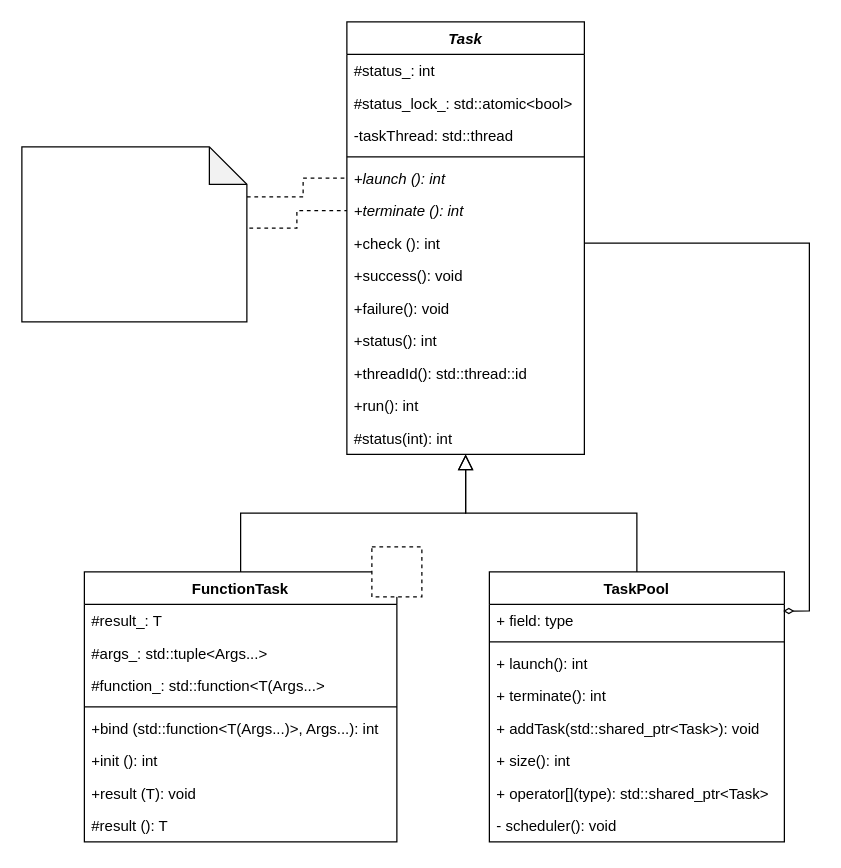
The diagram is 841 pixels wide and 868 high, and some of its shapes have lost their labels. Each missing label, with the box of its shape:
T, Args...: (371, 546, 422, 597)
These have a default implementation but can be overridden - i.e., by TaskPool: (21, 146, 247, 322)
